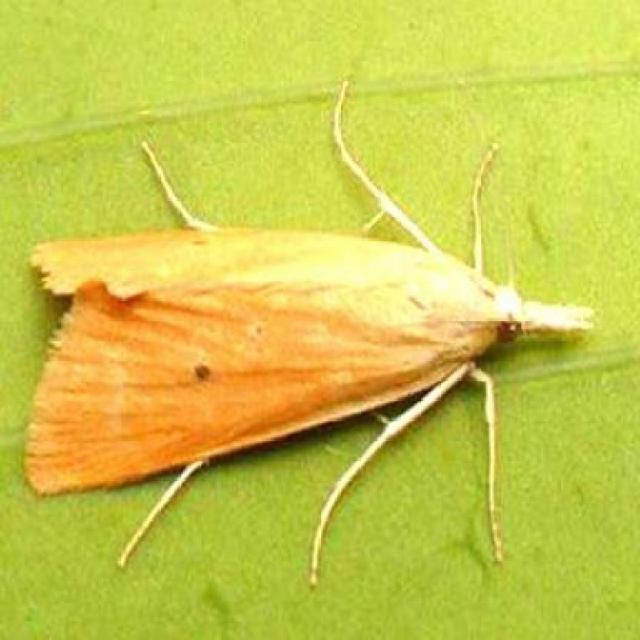stem-borer: (23, 192, 600, 510)
